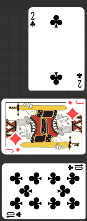10C: (5, 211, 23, 219)
2C: (75, 72, 83, 89)
AC: (29, 11, 36, 29)
